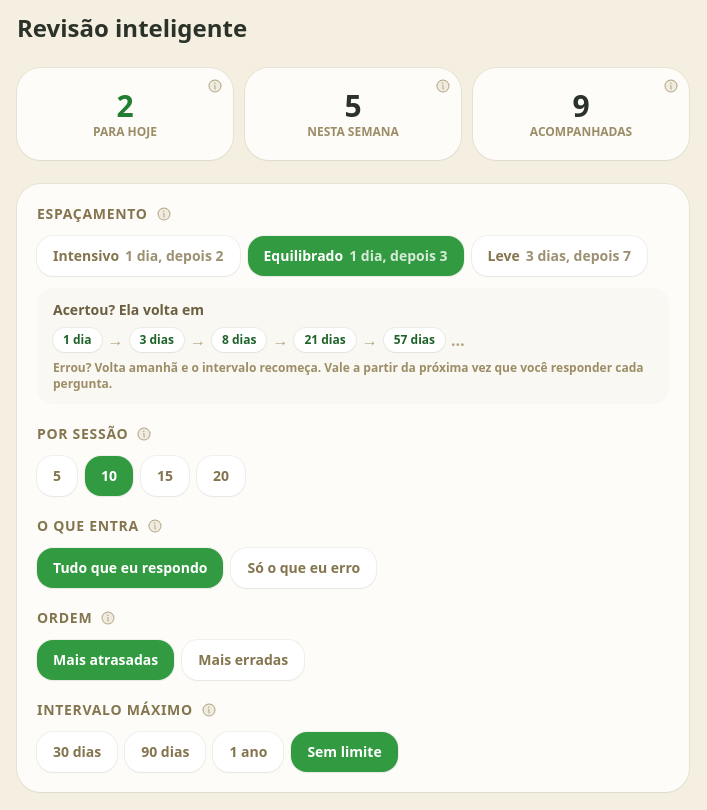
Test case: ReviewPage › updates the explanation as soon as another spacing is picked, and saves it
The width and height of the screenshot is (707, 810).
Expected: the list named "intervalo" is shown, [53,328,465,352]
Click the button "Leve 3 dias, depois 7": (559, 256) [472,236,647,276]
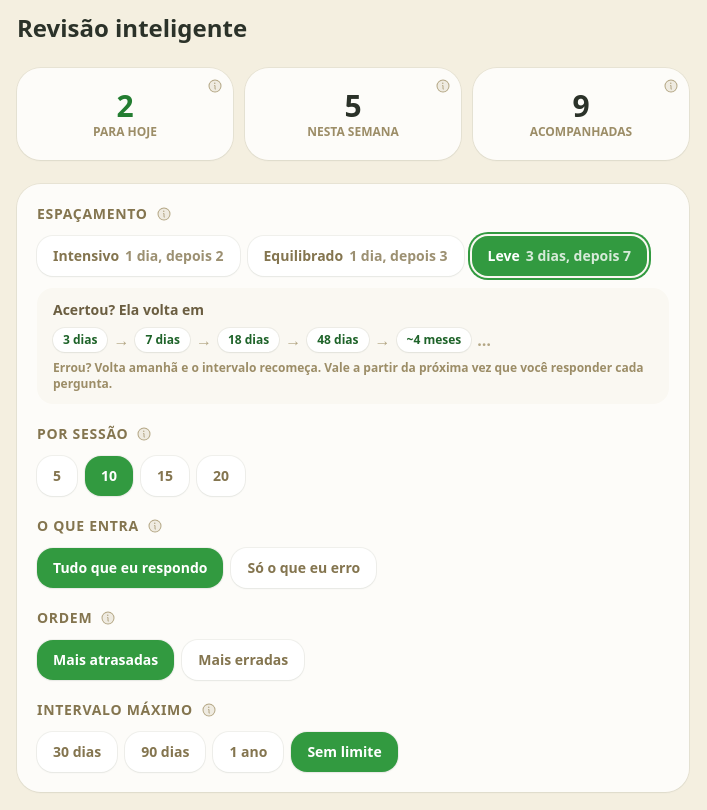
Expected: the text "48 dias" is shown, [307,328,368,352]
Expected: the text "~4 meses" is shown, [397,328,471,352]
